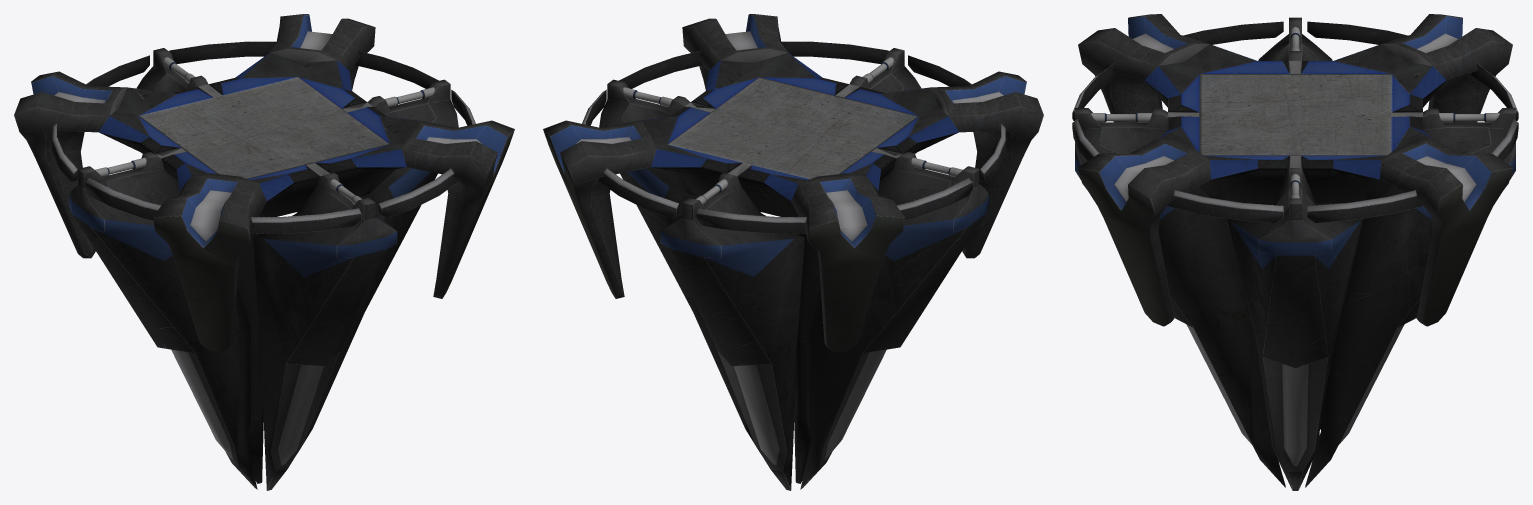
Rendered from platform_mesh.fbx.
3 renders of one model, left to right at view 1: azimuth 30°, elevation 25°; view 2: azimuth 150°, elevation 25°; view 3: azimuth 270°, elevation 25°, orthographic. The views are drawn at different scales.
Parts seen in each view (by area): view 1: Floater, Supports, Ground, GroundBelow, Cylinder; view 2: Floater, Supports, Ground, GroundBelow, Cylinder; view 3: Floater, Supports, Ground, GroundBelow, Cylinder.
Boxes of the visible parts, box(x1,y1,x2,y2) form: Floater: box(52, 41, 475, 490); Supports: box(14, 14, 514, 352); Ground: box(99, 53, 418, 200); GroundBelow: box(99, 102, 405, 216); Cylinder: box(95, 57, 434, 204); Floater: box(582, 41, 1005, 490); Supports: box(543, 14, 1043, 352); Ground: box(639, 53, 958, 200); GroundBelow: box(652, 102, 958, 216); Cylinder: box(623, 57, 962, 204); Floater: box(1072, 17, 1518, 490); Supports: box(1078, 14, 1512, 326); Ground: box(1144, 44, 1446, 179); GroundBelow: box(1145, 81, 1445, 202); Cylinder: box(1091, 27, 1499, 198).
Size of the model in its own units: 174 by 170 by 174.
Materials: 4 (4 with a texture image).
